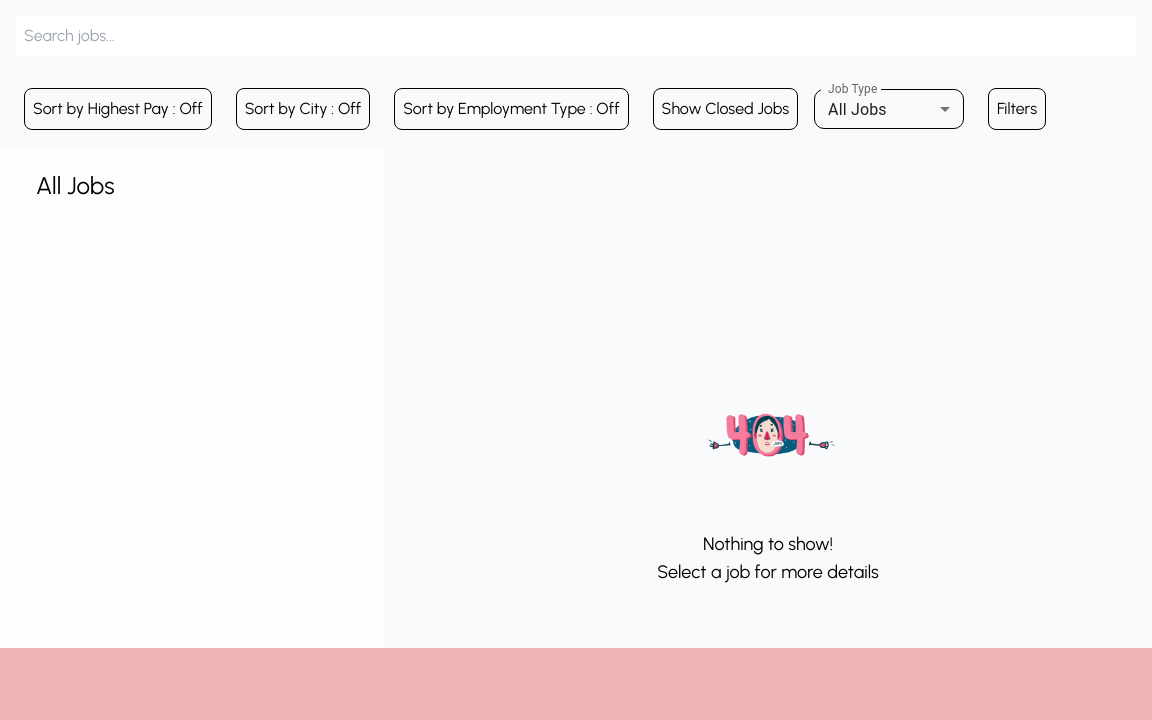
Test: Explore Page › toggles sort by city button text
Step 1. Click the button "Sort by City : Off" → [303, 109], box [236,88,370,130]
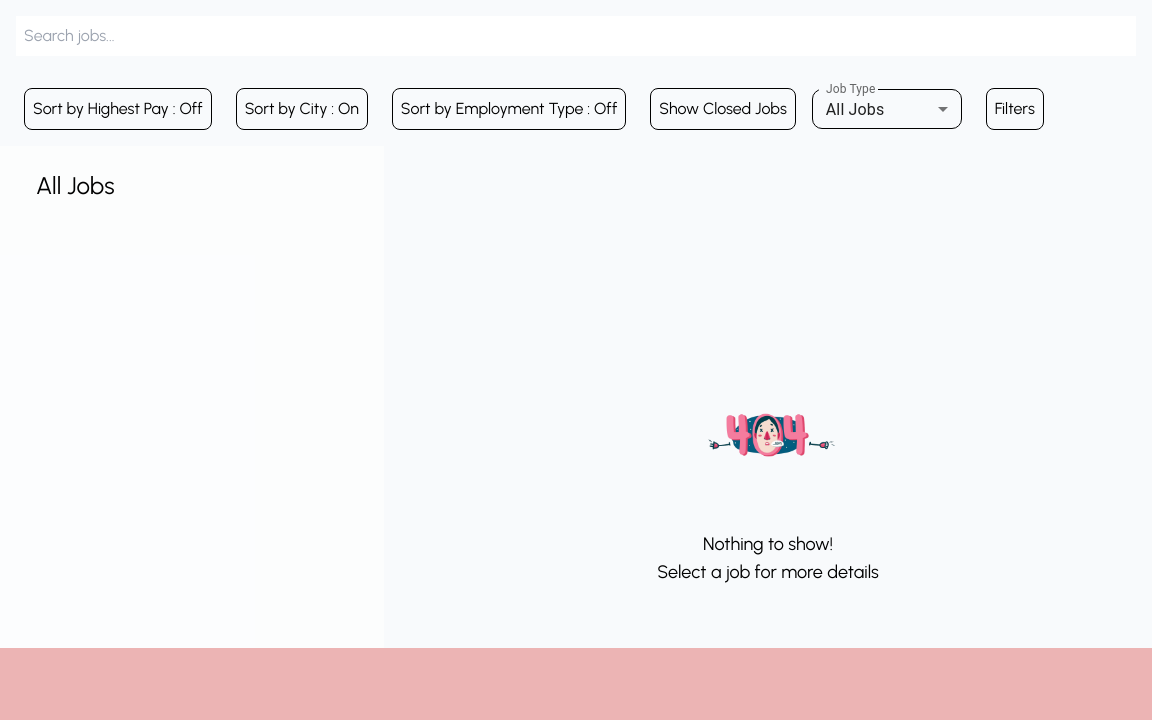
Check: the button "Sort by City : Off" reads "Sort by City : On", box [236,88,368,130]
